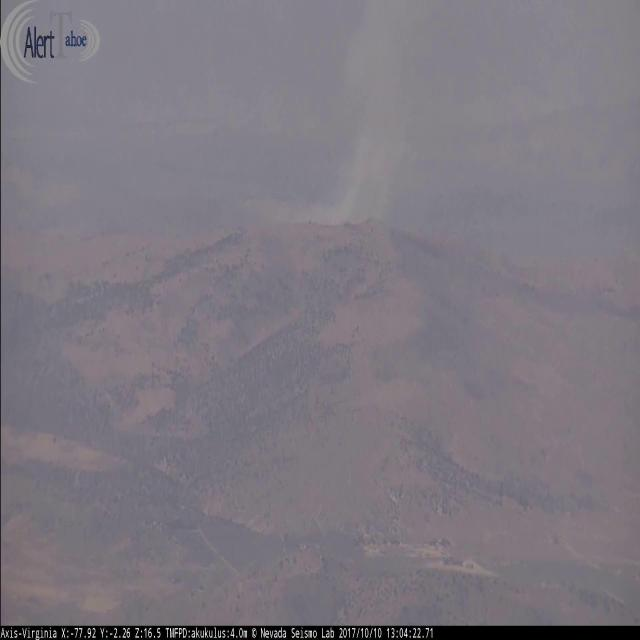smoke: (257, 0, 431, 228)
